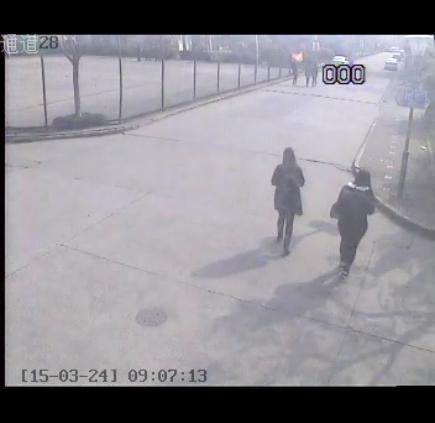person: (328, 166, 379, 281), (272, 145, 304, 259)
